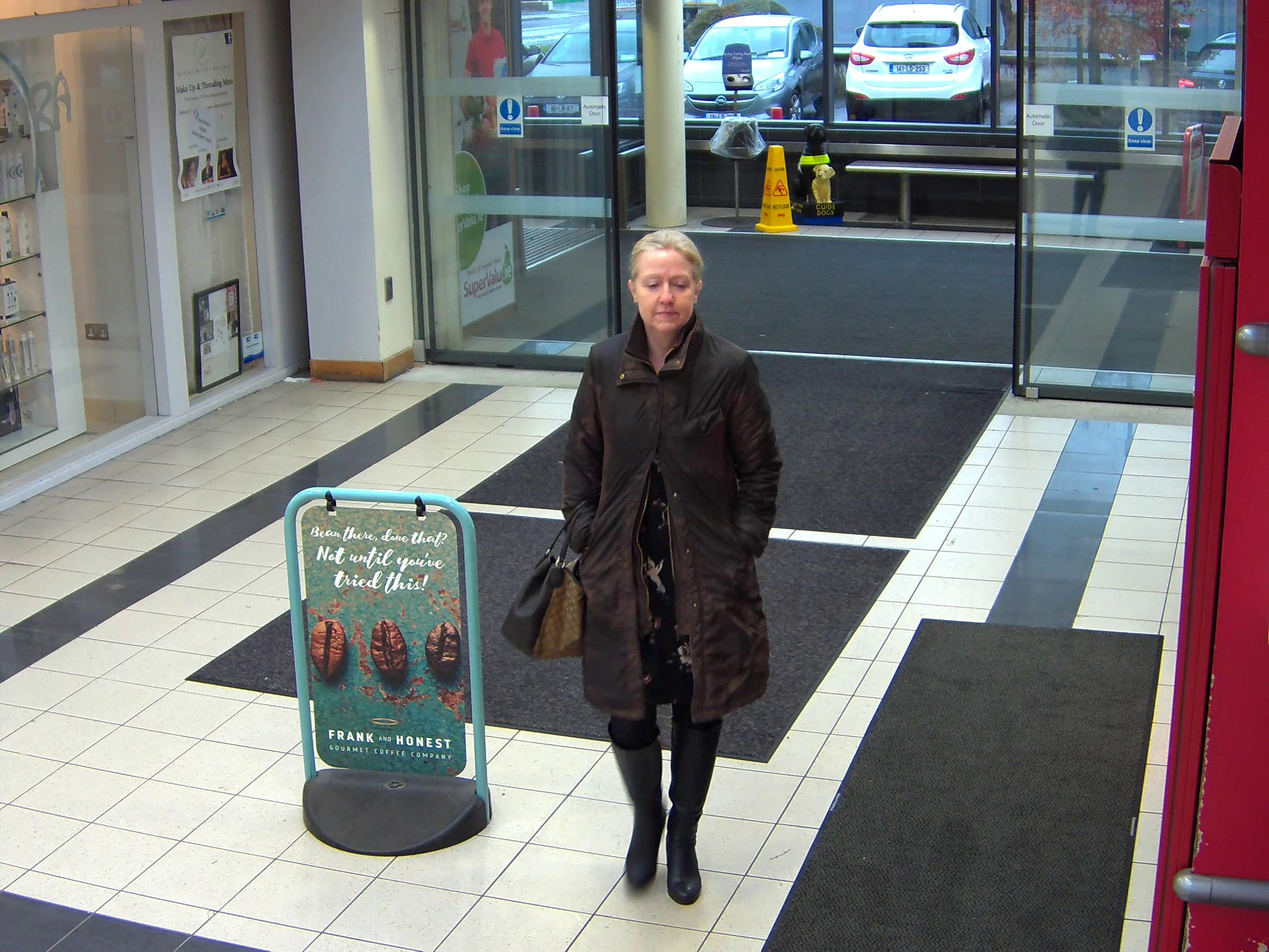backpack-or-handbag: (501, 545, 584, 659)
person-with-backpack-handbag: (504, 226, 785, 902), (564, 228, 782, 902)
